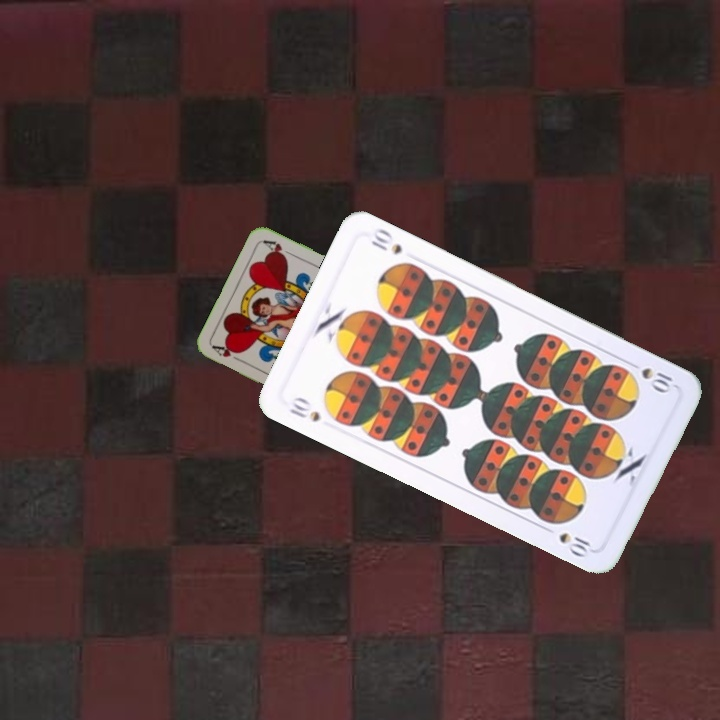HA: (209, 340, 248, 366)
S10: (637, 363, 678, 396), (285, 393, 323, 425)
